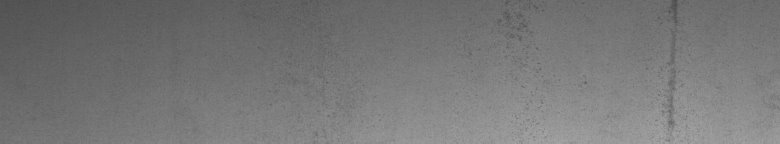ib: (498, 4, 587, 86)
